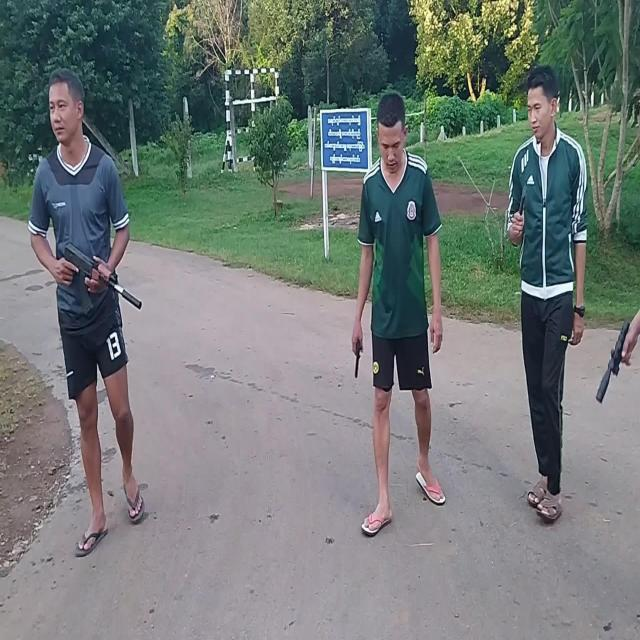gun: (64, 243, 142, 316), (356, 341, 360, 377)
